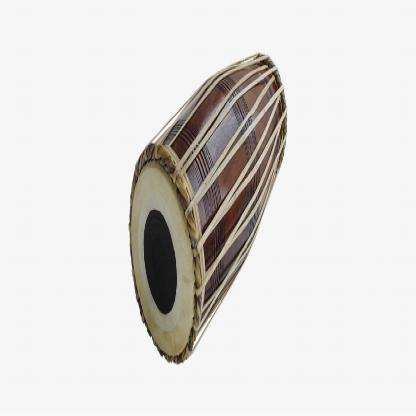Mridangam: (124, 23, 299, 392)
